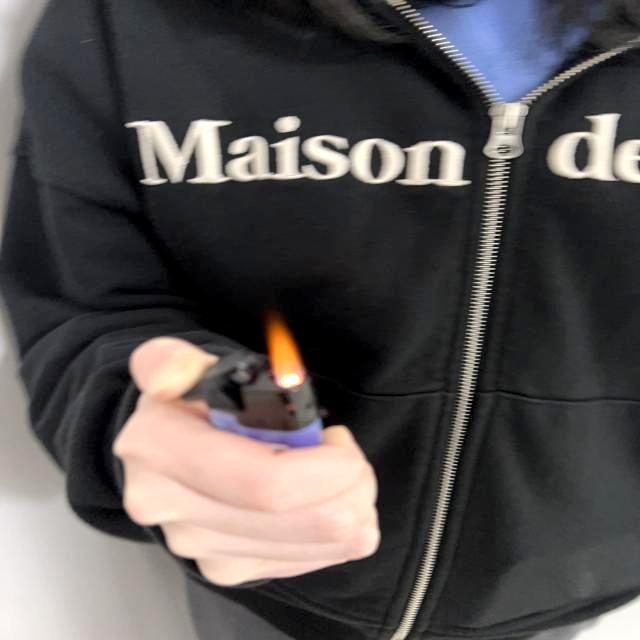fire: (266, 308, 310, 392)
